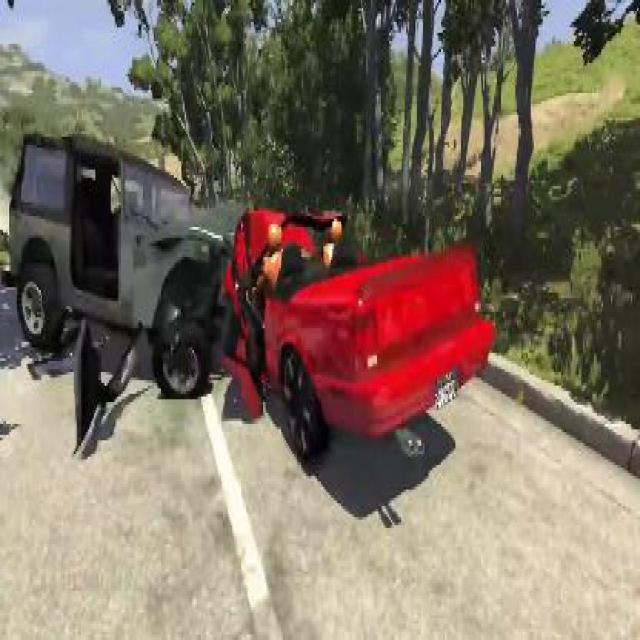accident: (6, 112, 502, 460)
